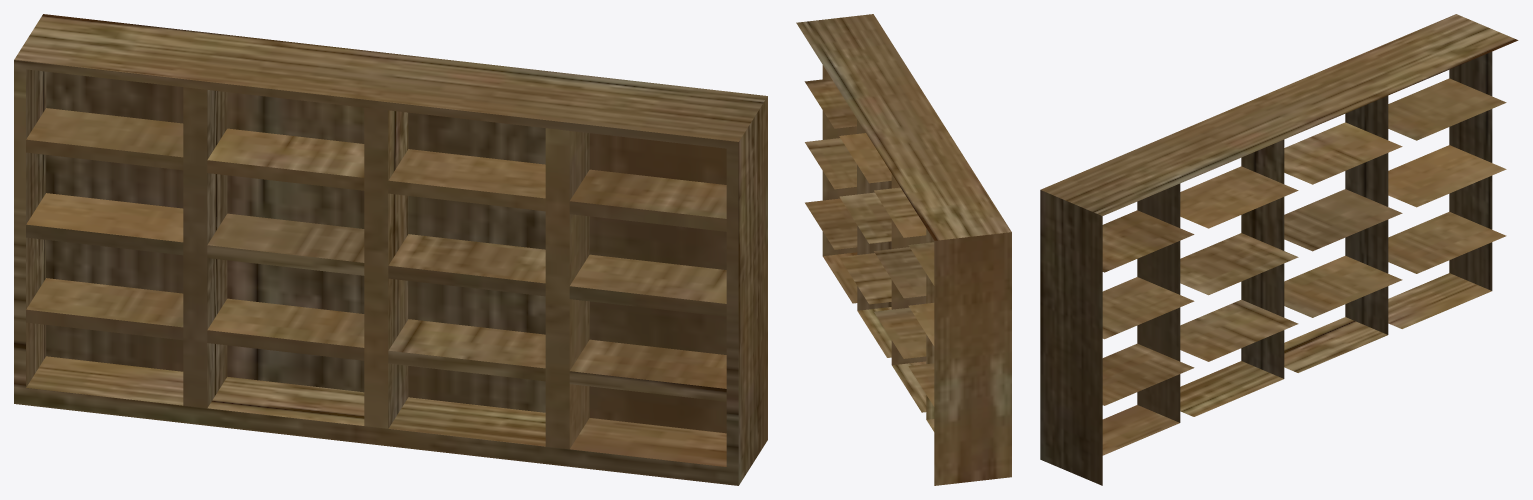
The model's file is cabinet-transformed.glb.
3 views of the same model, side by side, from view 1: azimuth 30°, elevation 25°; view 2: azimuth 150°, elevation 25°; view 3: azimuth 270°, elevation 25° (orthographic). The views are drawn at different scales.
Visible parts, largest first — view 1: cabinet; view 2: cabinet; view 3: cabinet.
Part boxes in pixels (<box>): cabinet: <box>14,14,767,485</box>; cabinet: <box>796,14,1011,485</box>; cabinet: <box>1040,14,1518,485</box>.
Size of the model in its own units: 1.63 by 1.01 by 1.63.
1 material, 1 textured.
